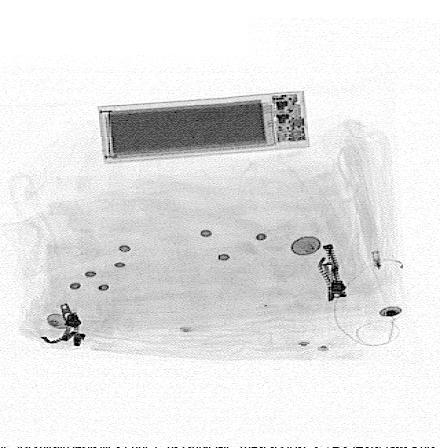Powerbank: (96, 90, 313, 164)
